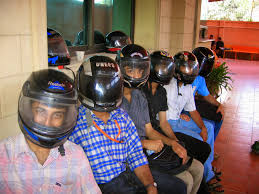helmet: (16, 70, 81, 142), (79, 52, 132, 119), (145, 33, 179, 96), (118, 42, 156, 92), (174, 36, 198, 95), (192, 45, 224, 82)
